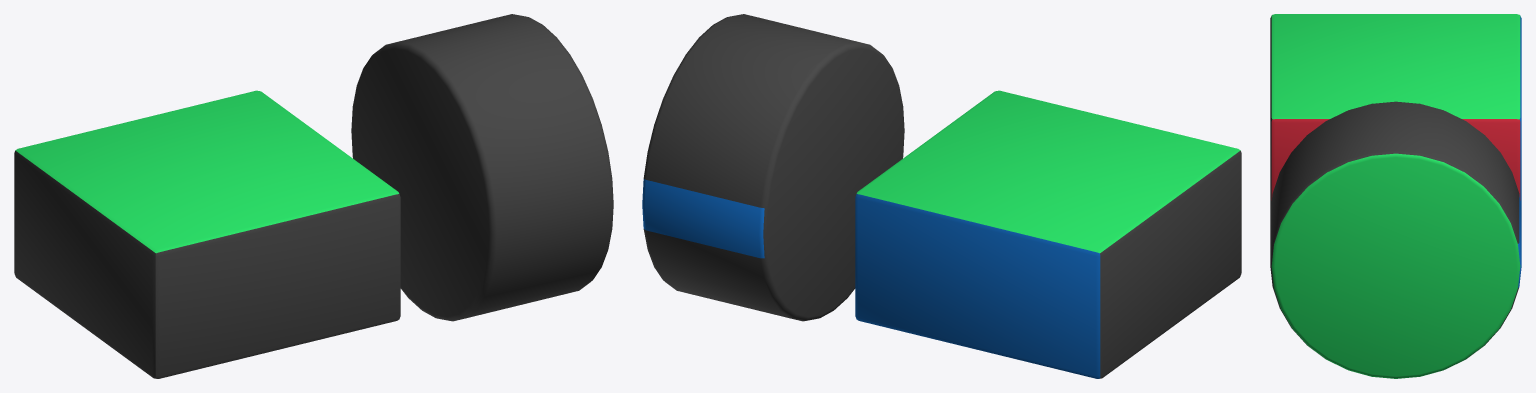
The model's file is mechanical_parts.glb.
The picture shows the model from 3 angles, left to right: view 1: azimuth 30°, elevation 25°; view 2: azimuth 150°, elevation 25°; view 3: azimuth 270°, elevation 25°; orthographic projection. The views are drawn at different scales.
Visible parts, largest first — view 1: cube, cylinder; view 2: cube, cylinder; view 3: cylinder, cube.
Boxes of the visible parts, left/top/right/bottom form: cube: left=14, top=90, right=400, bottom=378; cylinder: left=351, top=14, right=613, bottom=321; cube: left=855, top=90, right=1241, bottom=378; cylinder: left=642, top=14, right=904, bottom=321; cylinder: left=1270, top=101, right=1521, bottom=378; cube: left=1270, top=14, right=1521, bottom=212.
Size of what is drawn, in the model's own units: 1.86 by 1 by 1.
